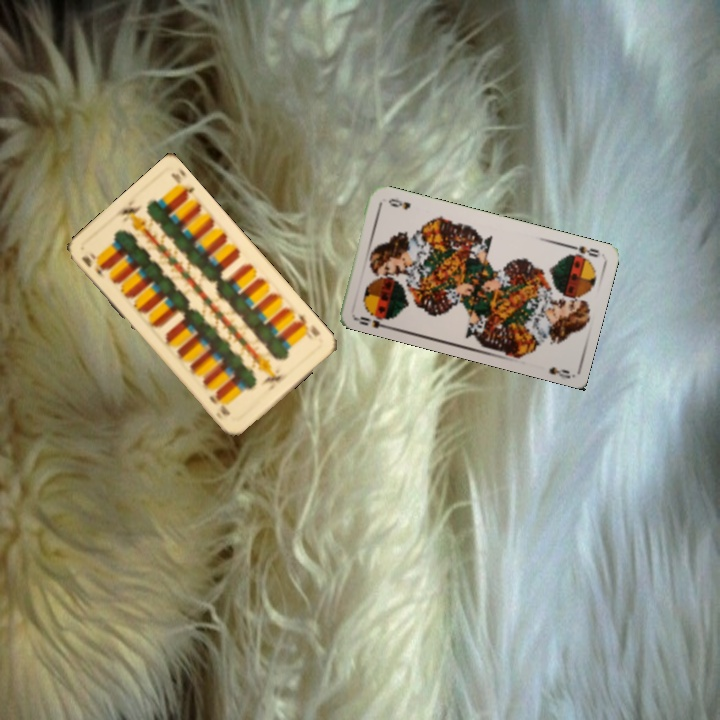E10: (77, 248, 109, 281), (290, 309, 322, 339)
SO: (350, 309, 392, 331), (564, 241, 602, 260)
